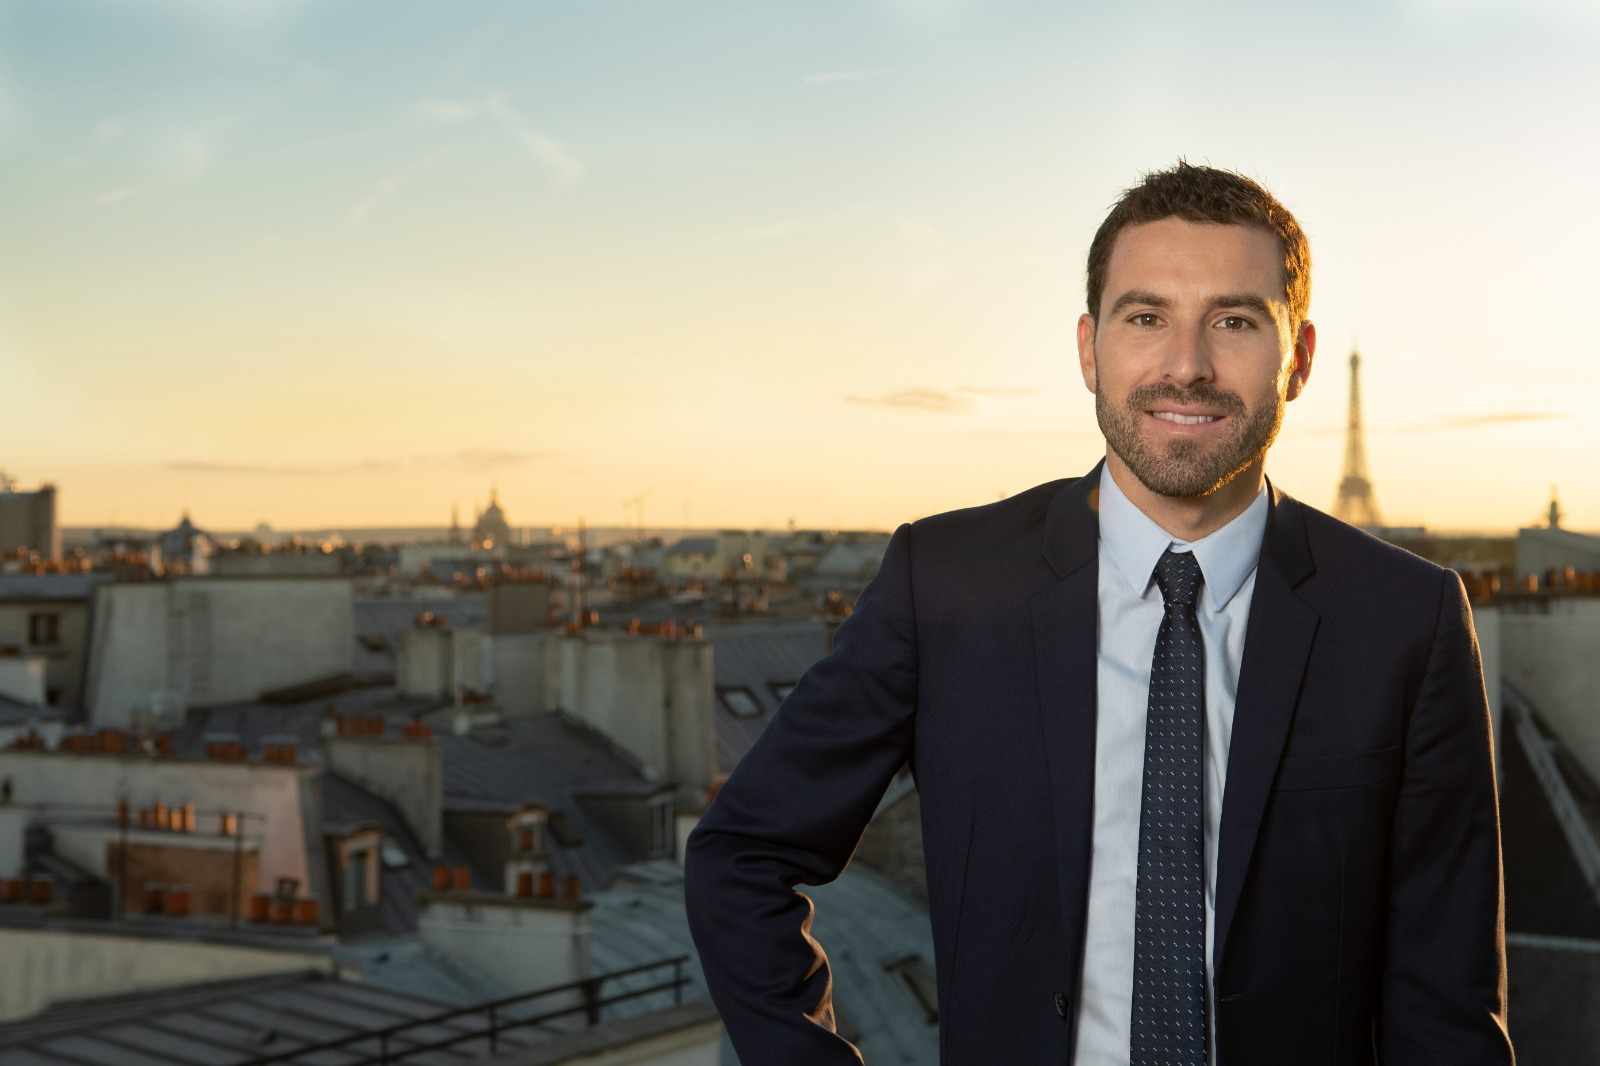without_mask: (1095, 242, 1265, 546)
